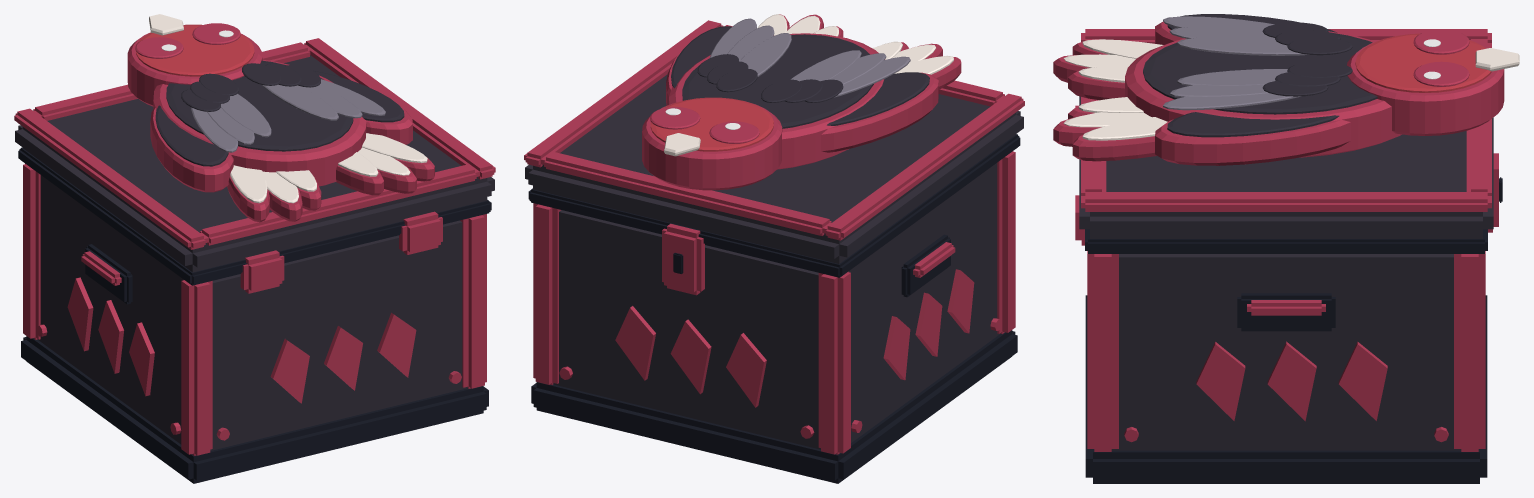
File: crate_abutre.fbx
3 renders of one model, left to right at view 1: azimuth 30°, elevation 25°; view 2: azimuth 150°, elevation 25°; view 3: azimuth 270°, elevation 25°, orthographic. The views are drawn at different scales.
Visible parts, largest first — view 1: crate_abutre_caixa; view 2: crate_abutre_caixa; view 3: crate_abutre_caixa.
Boxes of the visible parts, left/top/right/bottom form: crate_abutre_caixa: left=14, top=14, right=495, bottom=483; crate_abutre_caixa: left=524, top=14, right=1024, bottom=483; crate_abutre_caixa: left=1053, top=14, right=1519, bottom=483.
Size of the model in its own units: 2.68 by 2.42 by 2.95.
1 material, 1 textured.
